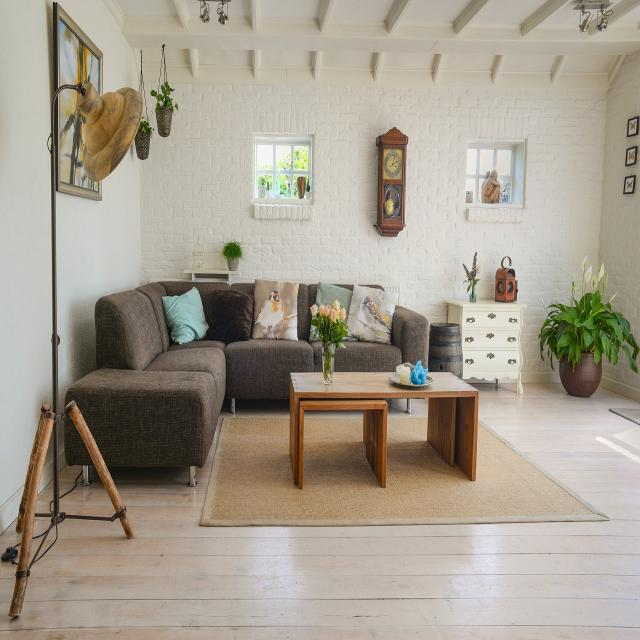floor: (0, 382, 640, 640), (60, 466, 115, 517), (385, 397, 429, 417), (34, 525, 56, 562), (59, 464, 82, 497), (35, 479, 53, 512), (29, 533, 47, 565), (33, 517, 52, 537)
wall: (139, 83, 607, 375), (56, 140, 143, 413), (598, 50, 640, 348), (252, 134, 315, 204), (372, 127, 408, 237), (144, 82, 159, 133), (141, 76, 148, 123), (158, 83, 165, 98), (159, 101, 163, 106), (140, 77, 141, 95), (163, 97, 165, 101)
